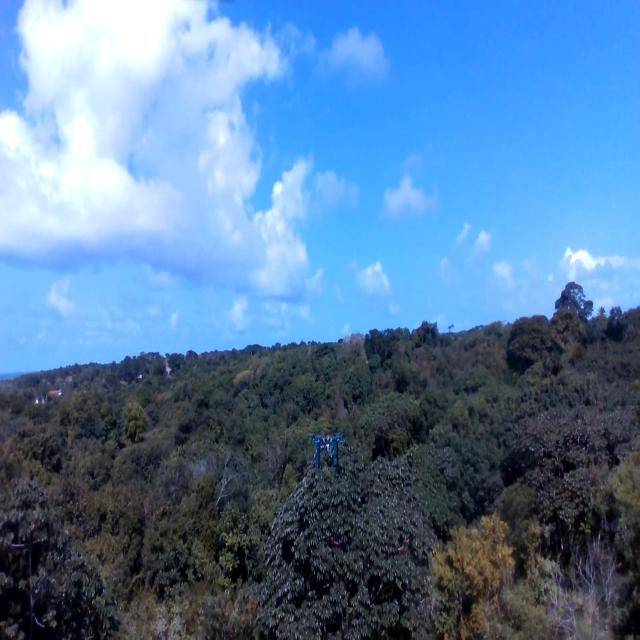-uav-: (306, 424, 354, 477)
